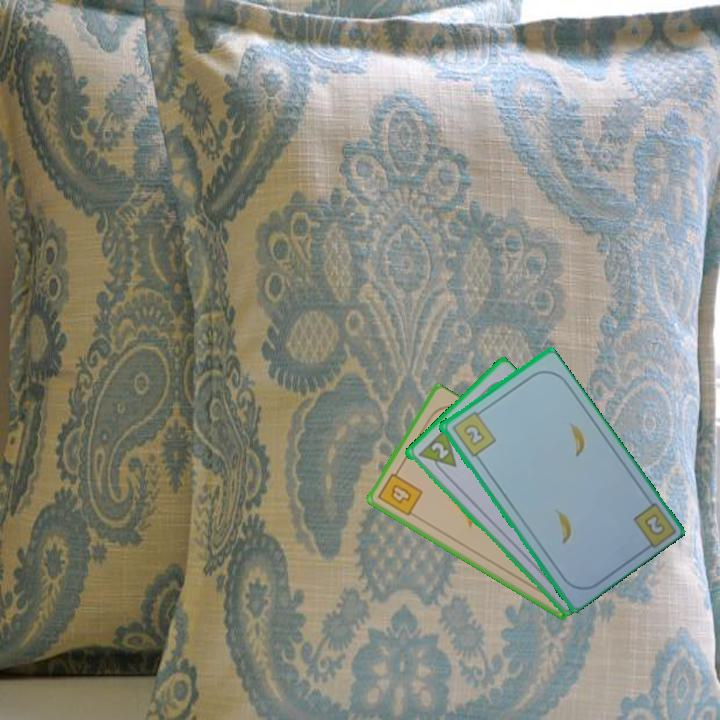2b: (448, 406, 498, 459), (640, 510, 668, 539)
2p: (427, 438, 451, 462)
4b: (374, 465, 426, 519)
